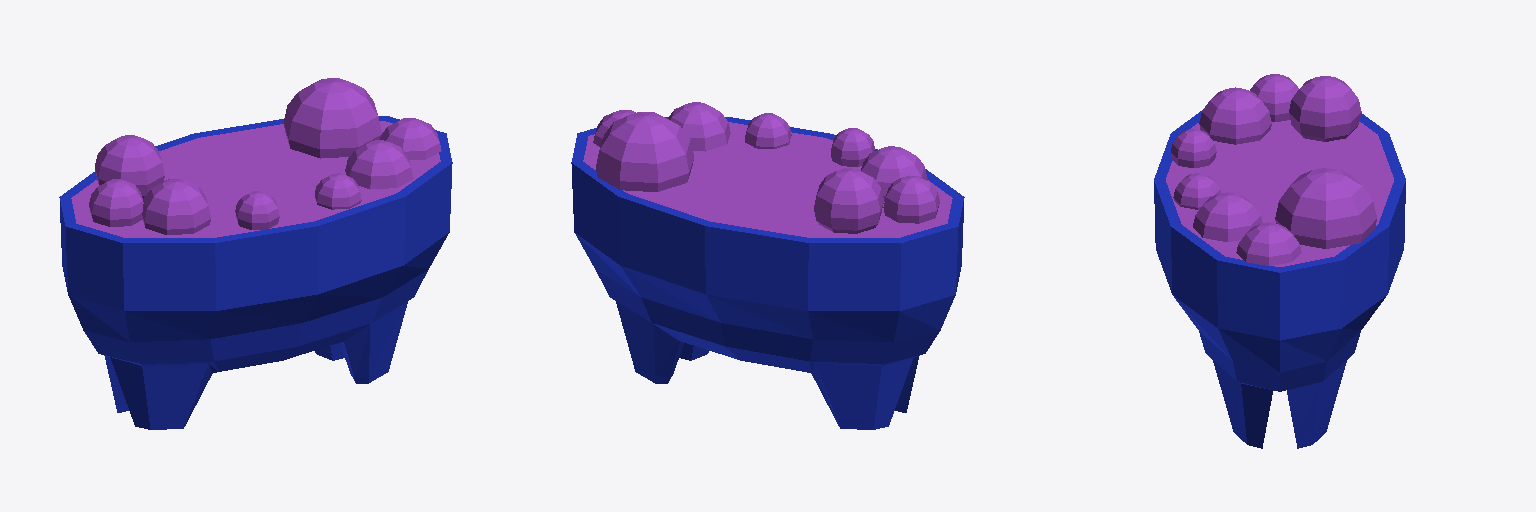
Rendered from bath.obj.
3 renders of one model, left to right at view 1: azimuth 30°, elevation 25°; view 2: azimuth 150°, elevation 25°; view 3: azimuth 270°, elevation 25°, orthographic.
Visible parts, largest first — view 1: obj3, obj4, obj8, obj7, obj6, obj15, obj5, obj9, obj17, obj16; view 2: obj3, obj4, obj8, obj6, obj5, obj15, obj7, obj16, obj17; view 3: obj3, obj4, obj8, obj6, obj7, obj15, obj9, obj5, obj17, obj16.
Part boxes in pixels (x1,y1,x2,y2): obj3: (59,116,452,429); obj4: (71,121,440,237); obj8: (284,78,381,158); obj7: (142,179,210,234); obj6: (95,135,164,198); obj15: (345,140,413,189); obj5: (89,179,143,226); obj9: (380,118,441,159); obj17: (235,191,279,229); obj16: (315,173,361,209); obj3: (571,117,964,429); obj4: (583,122,952,237); obj8: (596,112,693,191); obj6: (814,168,883,233); obj5: (883,175,939,223); obj15: (668,102,730,151); obj7: (861,146,927,201); obj16: (745,113,791,148); obj17: (831,128,874,166); obj3: (1154,111,1405,448); obj4: (1166,120,1393,266); obj8: (1275,168,1376,248); obj6: (1289,76,1361,141); obj7: (1199,87,1271,144); obj15: (1193,192,1262,241); obj9: (1236,222,1301,265); obj5: (1250,74,1298,121); obj17: (1171,129,1216,167); obj16: (1173,173,1220,209).
Size of the model in its own units: 3.27 by 2.17 by 1.87.